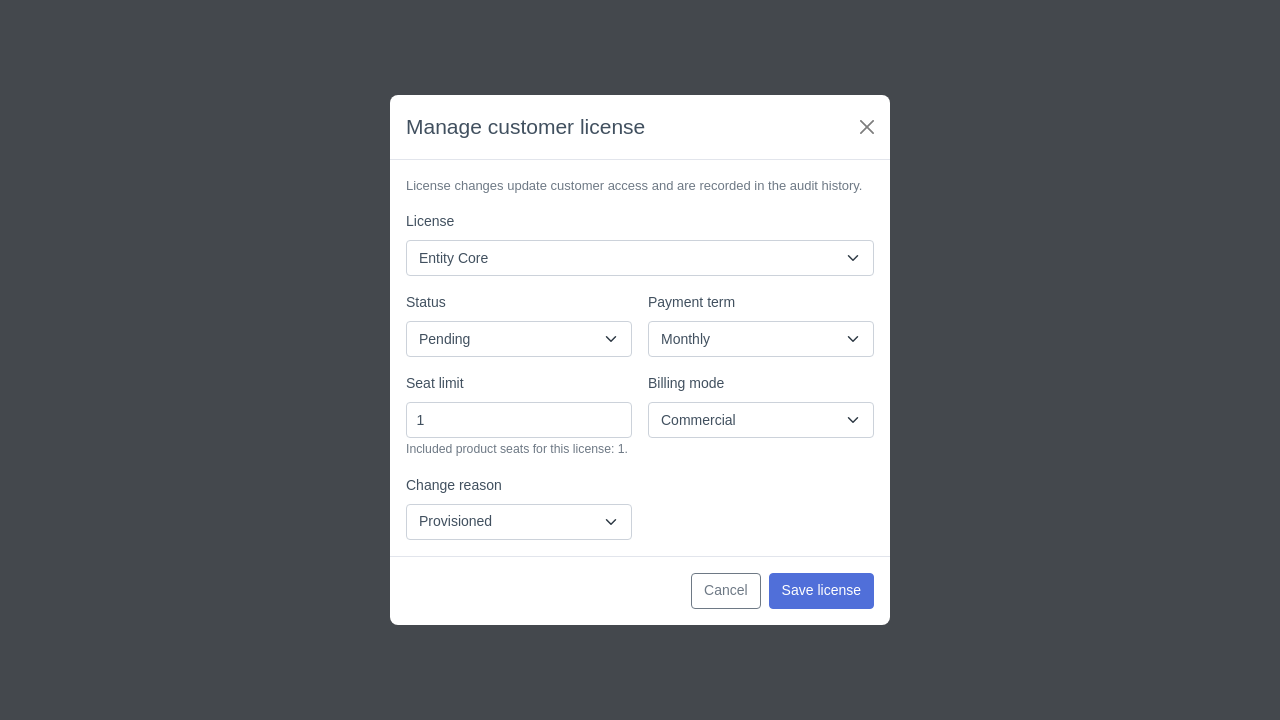
Test: SubscriptionModal › updates and locks the published seat count when the license changes
Select "Desk Intelligence" in the dropdown labelled "License" at (640, 258), box [406,240,874,276]
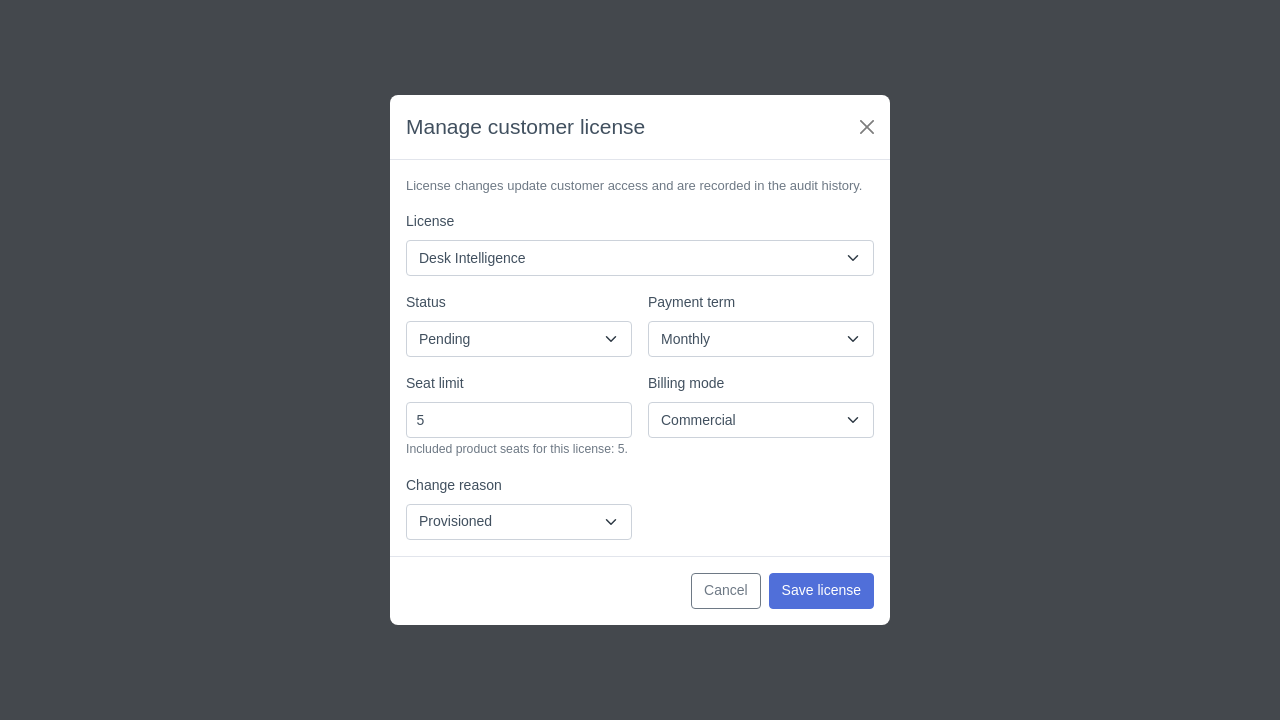
Check: the number field labelled "Seat limit" holds "5", box [406,402,632,438]
Check: the text "Included product seats for this license: 5." is shown, box [406,442,628,456]
